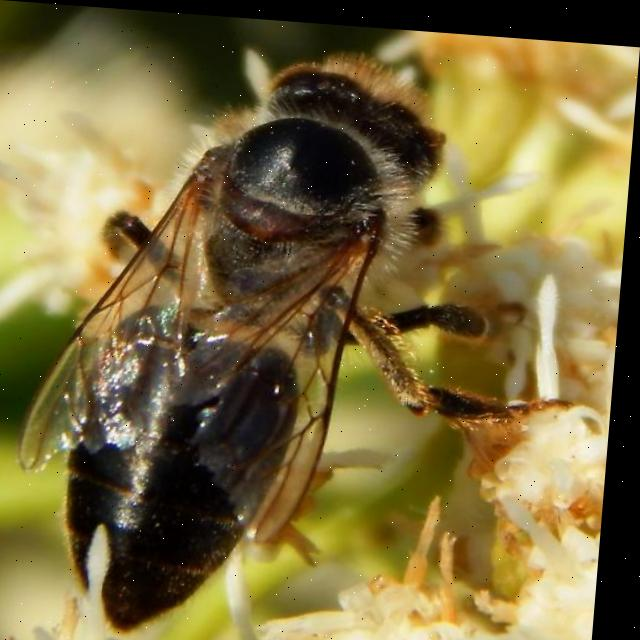Allodapula: (16, 17, 529, 640)
